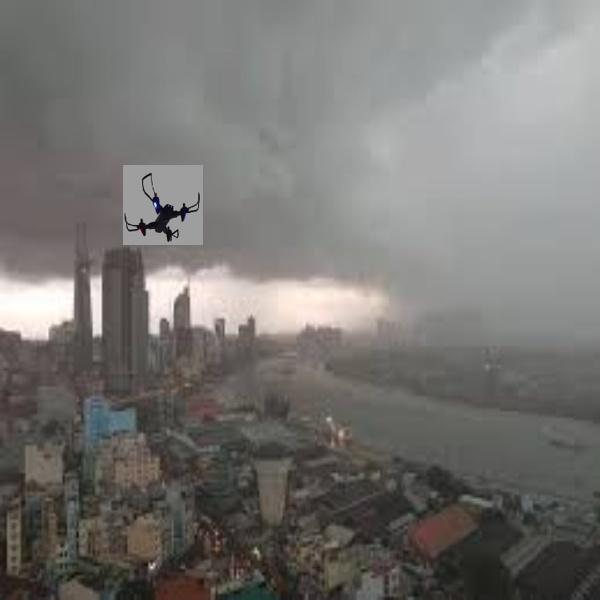drone: (122, 164, 205, 241)
